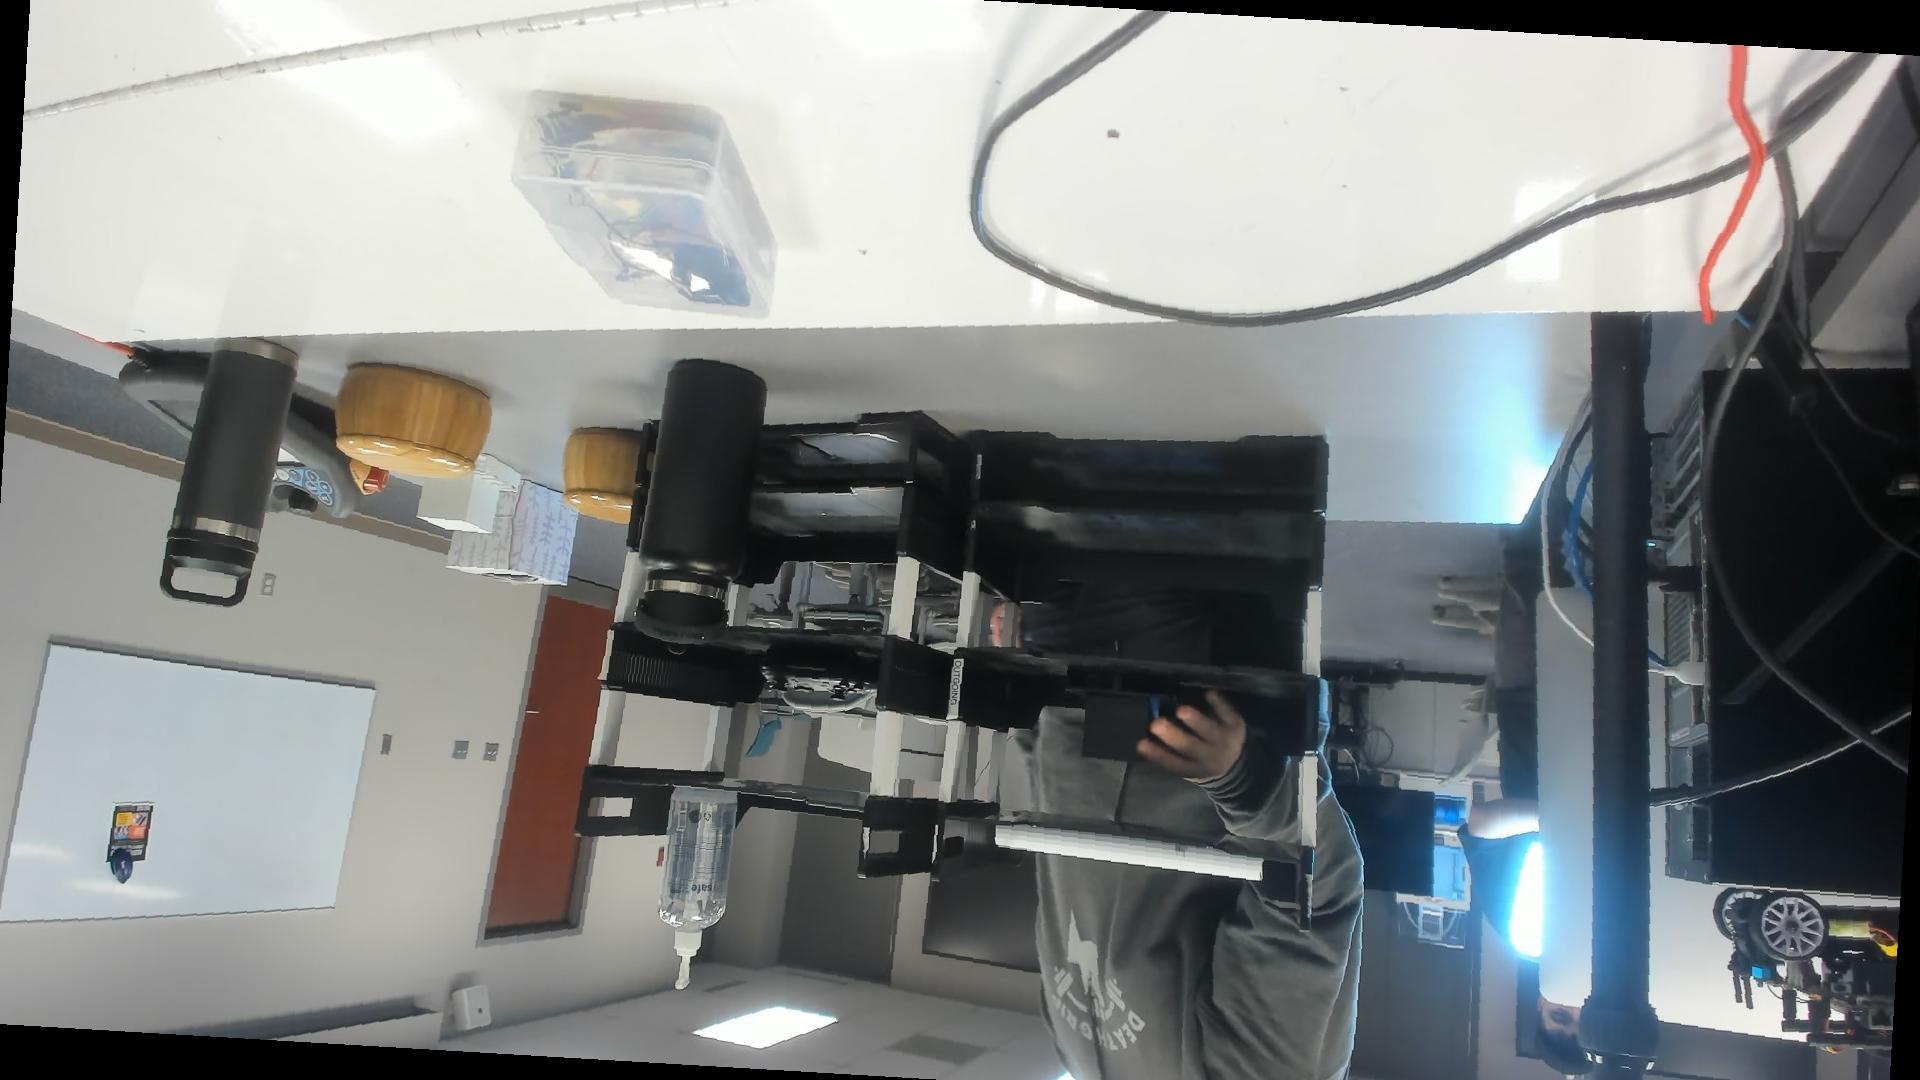black pallet: (1059, 651, 1182, 771)
white pallet: (404, 450, 531, 541)
